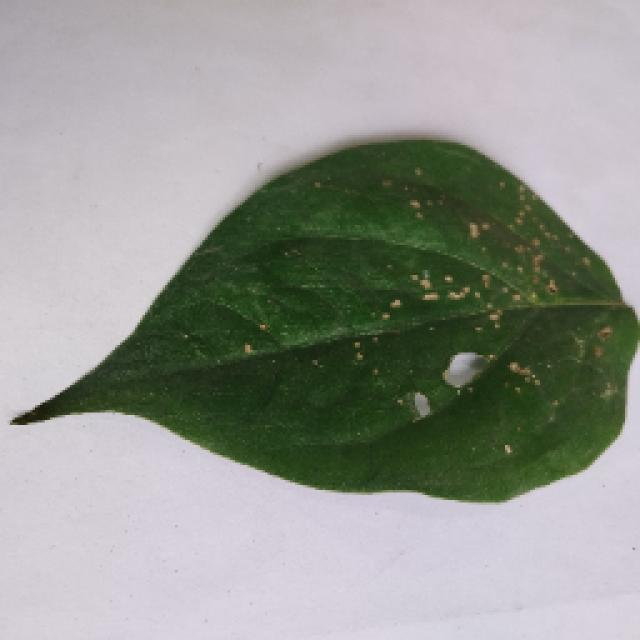pollu-disease: (3, 122, 625, 530)
